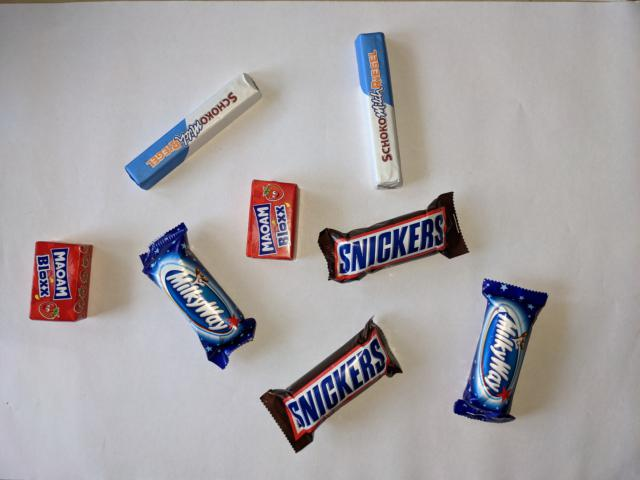MAOAM: (24, 239, 97, 326), (243, 178, 303, 263)
MilkyWay: (137, 220, 259, 372), (451, 277, 550, 426)
Schokoriegel: (120, 69, 265, 193), (351, 29, 406, 193)
Snickers: (257, 311, 406, 456), (315, 189, 472, 287)
